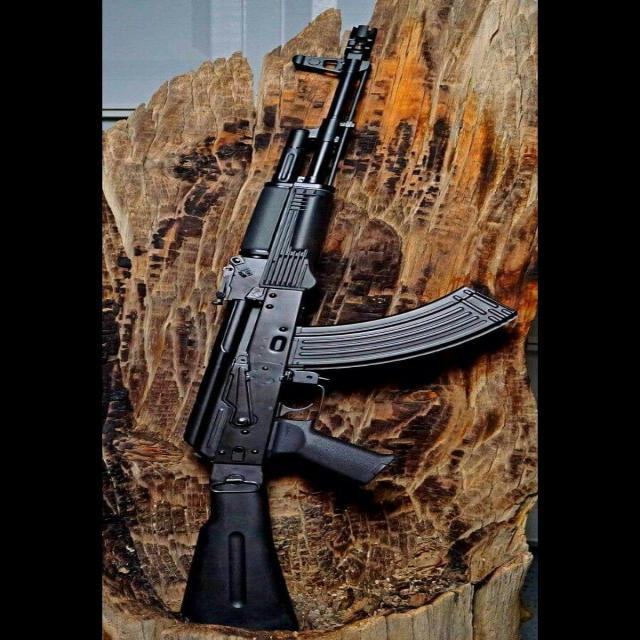ak: (136, 14, 526, 634)
